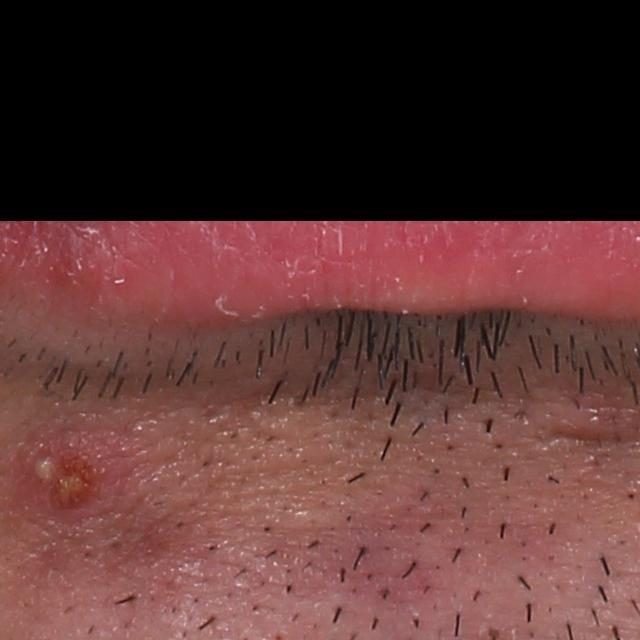hypertrophic_scar: (275, 496, 349, 532)
pustule: (18, 423, 109, 512)
